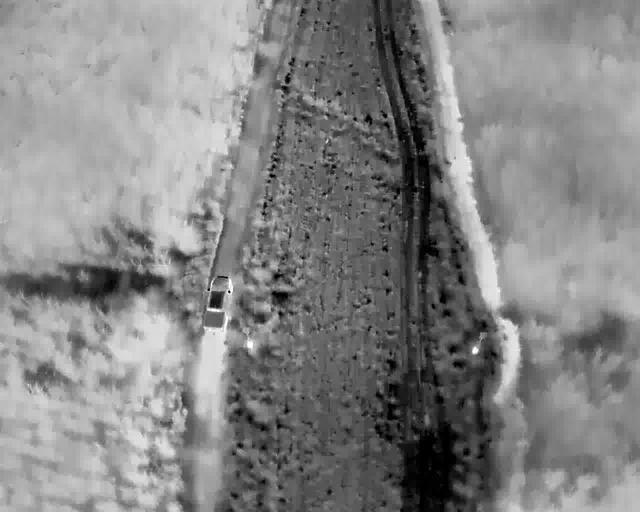car: (204, 275, 233, 333)
